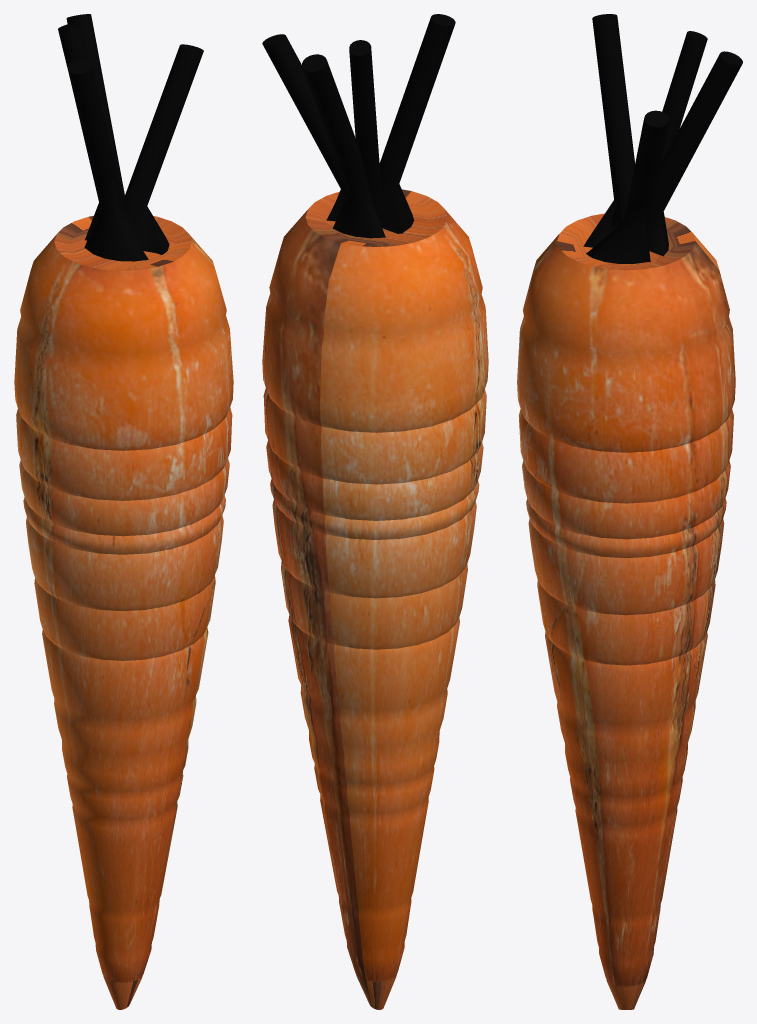
Rendered from SM_Carrot.fbx.
The picture shows the model from 3 angles, left to right: view 1: azimuth 30°, elevation 25°; view 2: azimuth 150°, elevation 25°; view 3: azimuth 270°, elevation 25°; orthographic projection. The views are drawn at different scales.
Visible parts, largest first — view 1: SM_Carrot; view 2: SM_Carrot; view 3: SM_Carrot.
Boxes of the visible parts, x1,y1,x2,y2 form: SM_Carrot: (14, 14, 233, 1009); SM_Carrot: (262, 14, 488, 1009); SM_Carrot: (517, 14, 742, 1009).
Size of the model in its own units: 5.44 by 26.3 by 5.55.
